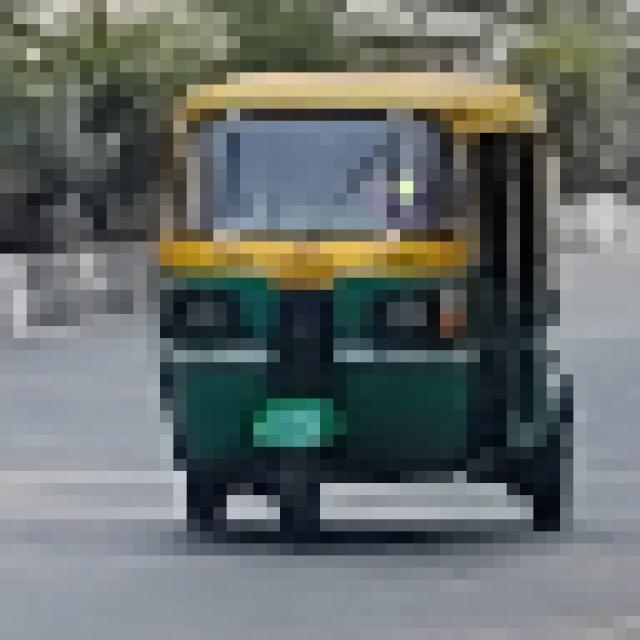autorickshaw: (146, 49, 586, 544)
